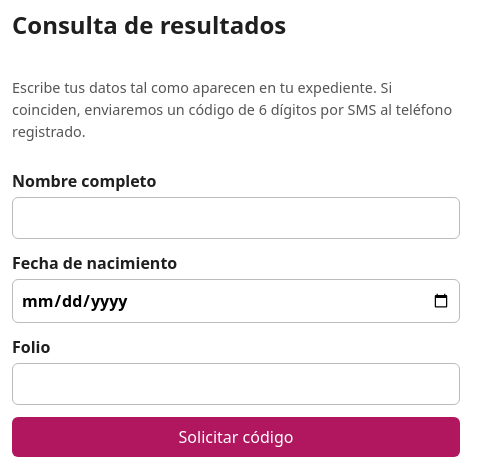
PatientPortal › desde la pantalla del código se puede volver a corregir los datos
Type "Ana Prueba Sintética" into the field labelled "Nombre completo" at (236, 218), box [12,196,460,238]
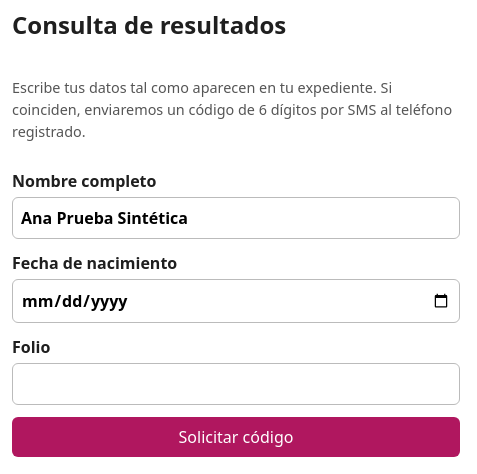
Type "1985-03-14" into the date field labelled "Fecha de nacimiento" at (236, 300), box [12,278,460,322]
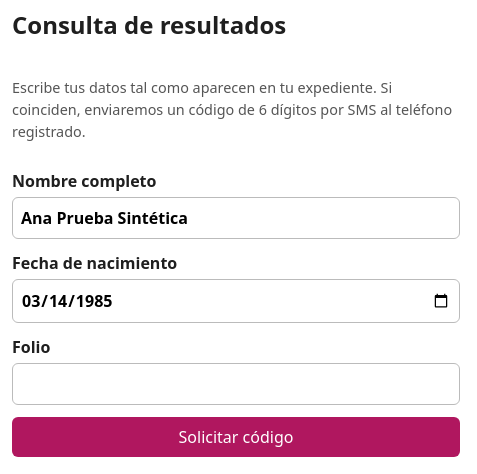
Type "SINT-0001" into the field labelled "Folio" at (236, 384), box [12,362,460,404]
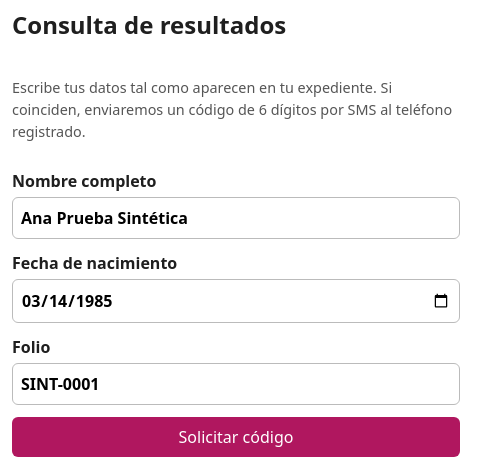
Click the button "Solicitar código" at (236, 436), box [12,416,460,456]
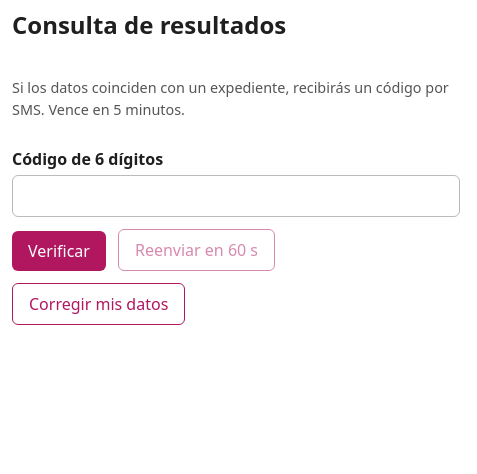
Expected: the field labelled "Código de 6 dígitos" is shown, [12,175,460,217]
Click the button "Corregir mis datos" at (99, 304), box [12,283,185,325]
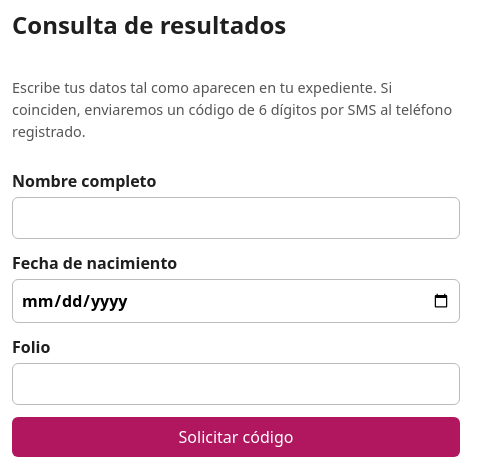
Expected: the button "Solicitar código" is shown, [12,416,460,456]
